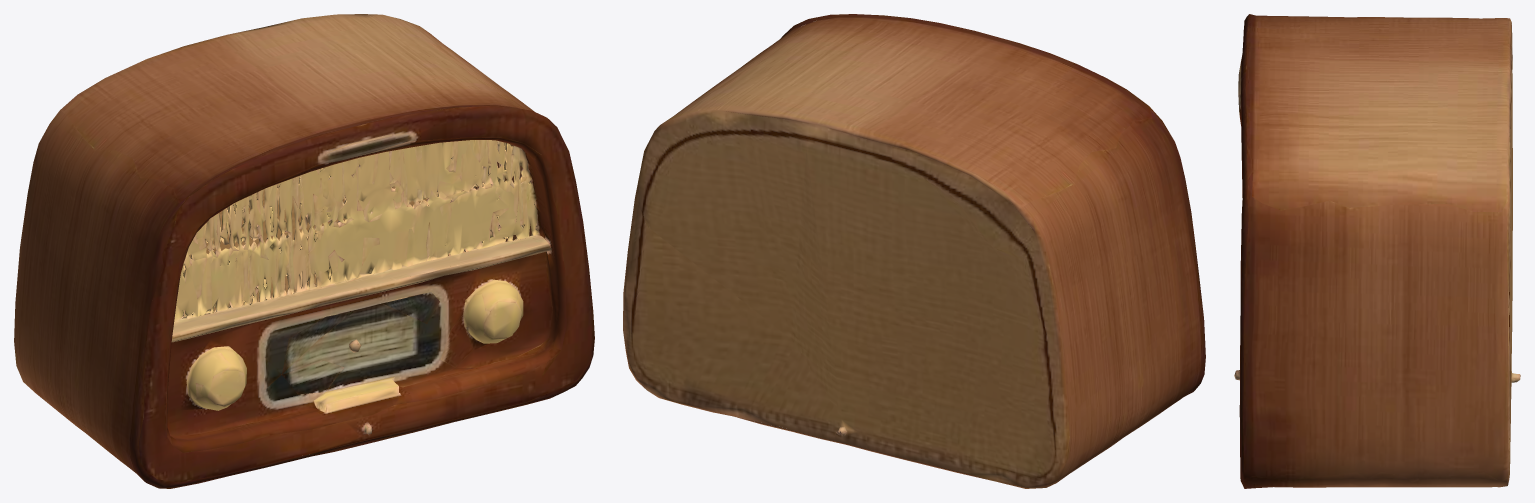
The model's file is radio.glb.
The picture shows the model from 3 angles, left to right: view 1: azimuth 30°, elevation 25°; view 2: azimuth 150°, elevation 25°; view 3: azimuth 270°, elevation 25°; orthographic projection.
Visible parts, largest first — view 1: geometry_0; view 2: geometry_0; view 3: geometry_0.
Part boxes in pixels (<box>): geometry_0: <box>14,14,594,488</box>; geometry_0: <box>623,14,1205,488</box>; geometry_0: <box>1234,14,1520,488</box>.
Bounding box in the file's own units: 0.45 × 0.3 × 0.24.
Materials: 1 (1 with a texture image).
